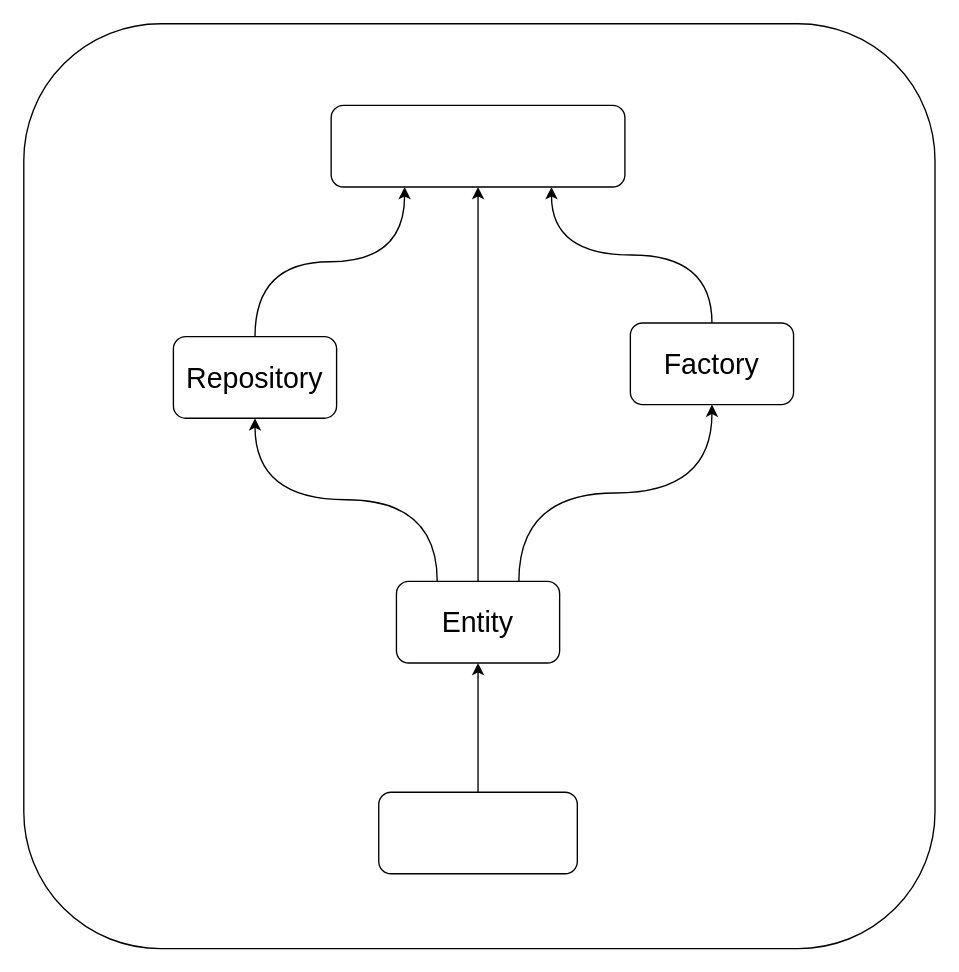
This 959x972 diagram has some shape labels left out. Each missing label, with the centre of its shape:
"DomainService" goes at pixel 477 145.
"Value Object" goes at pixel 477 832.
